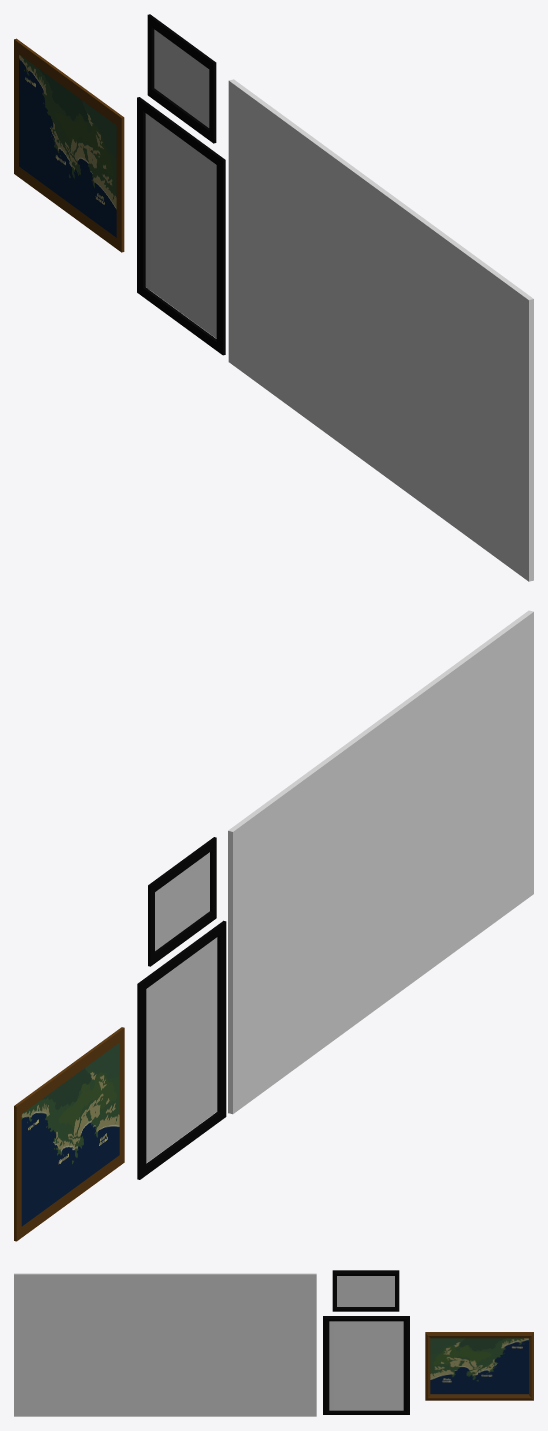
Rendered from Quadros.fbx.
3 renders of one model, top to bottom at view 1: azimuth 30°, elevation 25°; view 2: azimuth 150°, elevation 25°; view 3: azimuth 270°, elevation 25°, orthographic. The views are drawn at different scales.
Visible parts, largest first — view 1: QuadroForte, Quadro CanhaoG, Quadro Litoral, Quadro CanhaoP; view 2: QuadroForte, Quadro CanhaoG, Quadro Litoral, Quadro CanhaoP; view 3: QuadroForte, Quadro CanhaoG, Quadro Litoral, Quadro CanhaoP.
Boxes of the visible parts, x1=… form: QuadroForte: x1=228, y1=79, x2=533, y2=581; Quadro CanhaoG: x1=137, y1=97, x2=225, y2=355; Quadro Litoral: x1=14, y1=38, x2=124, y2=252; Quadro CanhaoP: x1=147, y1=14, x2=216, y2=143; QuadroForte: x1=228, y1=610, x2=533, y2=1114; Quadro CanhaoG: x1=137, y1=920, x2=226, y2=1179; Quadro Litoral: x1=14, y1=1027, x2=124, y2=1241; Quadro CanhaoP: x1=148, y1=837, x2=216, y2=966; QuadroForte: x1=14, y1=1273, x2=316, y2=1416; Quadro CanhaoG: x1=323, y1=1316, x2=409, y2=1414; Quadro Litoral: x1=425, y1=1332, x2=533, y2=1400; Quadro CanhaoP: x1=332, y1=1270, x2=399, y2=1311.
Bounding box in the file's own units: 14.7 × 787 × 2559.
